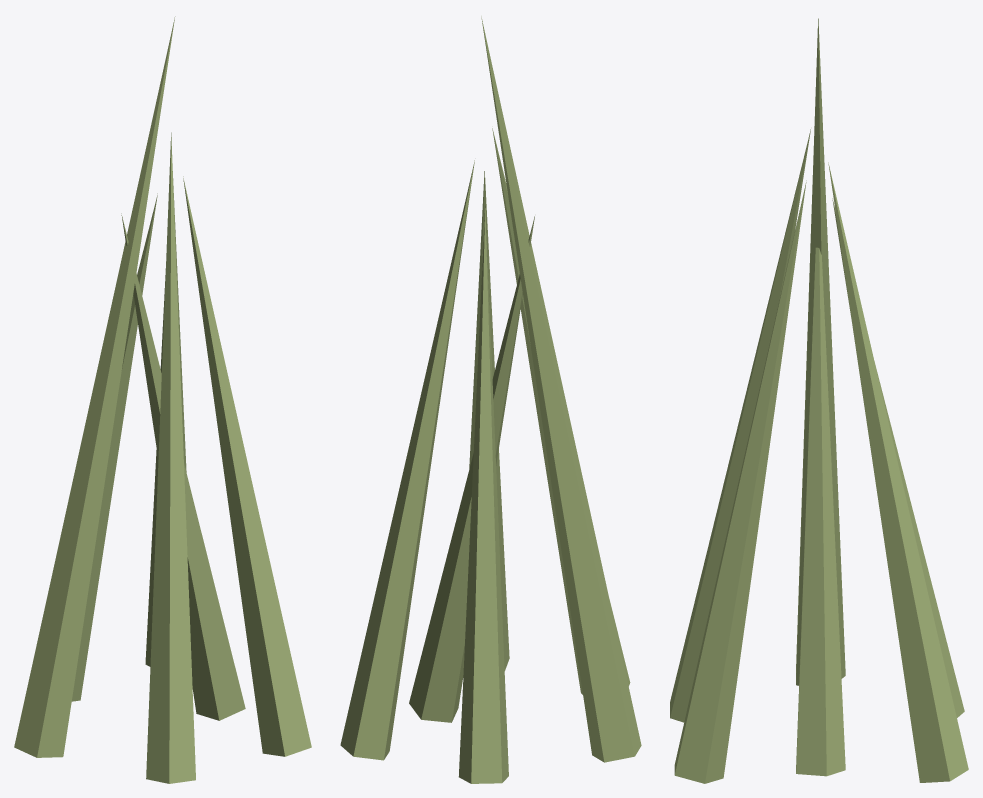
Rendered from ENV_Swamp_Reed.fbx.
3 renders of one model, left to right at view 1: azimuth 30°, elevation 25°; view 2: azimuth 150°, elevation 25°; view 3: azimuth 270°, elevation 25°, orthographic. The views are drawn at different scales.
Parts seen in each view (by area): view 1: ENV_Swamp_Reed; view 2: ENV_Swamp_Reed; view 3: ENV_Swamp_Reed.
Part boxes in pixels (x1=…): ENV_Swamp_Reed: x1=14, y1=16, x2=311, y2=783; ENV_Swamp_Reed: x1=340, y1=16, x2=641, y2=783; ENV_Swamp_Reed: x1=670, y1=18, x2=968, y2=783.
Bounding box in the file's own units: 0.2557 × 0.7406 × 0.2719.
